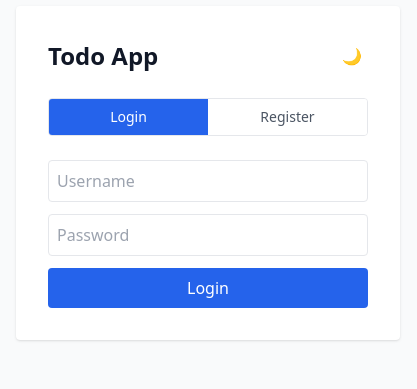
it: AuthPage › clears error when switching modes
Type "alice" into the field with placeholder "Username" at x=208, y=181, box [48,160,368,202]
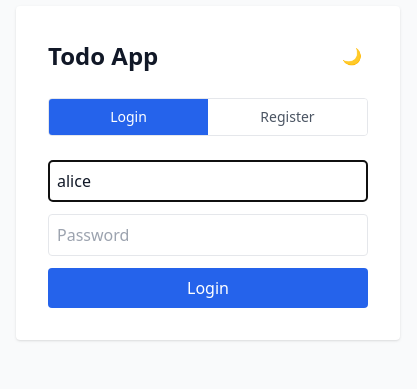
Type "bad" into the password field with placeholder "Password" at x=208, y=235, box [48,214,368,256]
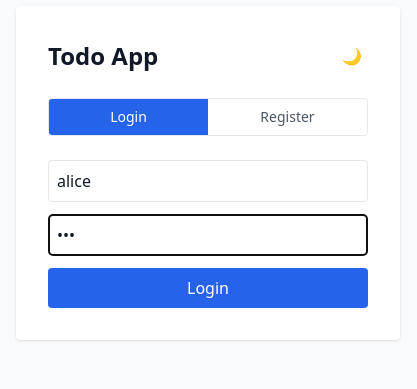
Click the 2nd button "Login" at x=208, y=288, box [48,268,368,308]
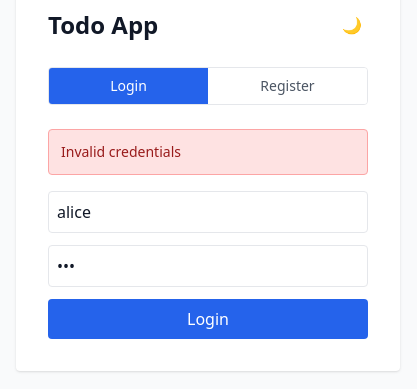
Now the text "Invalid credentials" is shown, box [48,129,368,175]
Click the button "Register" at x=288, y=86, box [208,68,367,104]
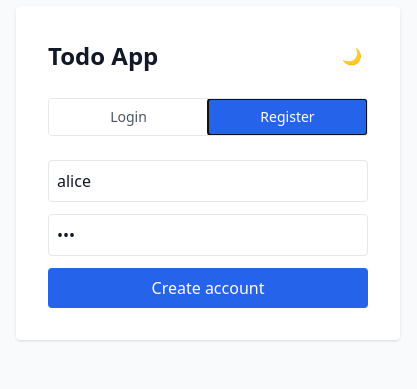
Now the text "Invalid credentials" is gone
